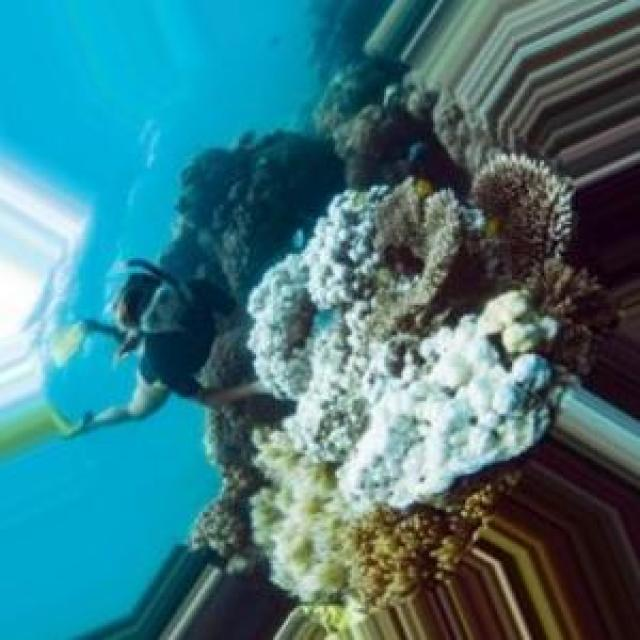Bleached: (248, 187, 558, 511)
